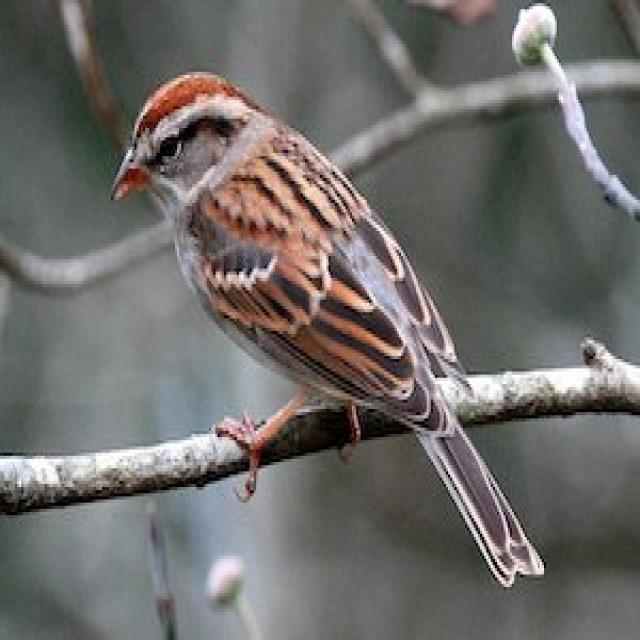Sparrow: (112, 68, 547, 589)
